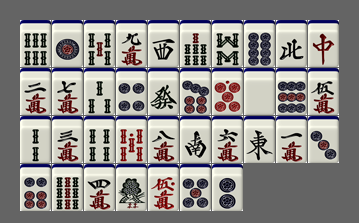0m: (148, 164, 179, 211)
0p: (212, 68, 243, 115)
0s: (116, 116, 147, 163)
1m: (276, 116, 307, 163)
1p: (52, 20, 83, 67)
1s: (116, 164, 147, 211)
1z: (244, 116, 275, 163)
2m: (20, 68, 51, 115)
2p: (212, 164, 243, 211)
2s: (20, 116, 51, 163)
2z: (180, 116, 211, 163)
3m: (52, 116, 83, 163)
3p: (308, 116, 339, 163)
3s: (84, 68, 115, 115)
3z: (148, 20, 179, 67)
4m: (84, 164, 115, 211)
4p: (116, 68, 147, 115)
4s: (84, 116, 115, 163)
4z: (276, 20, 307, 67)
5m: (308, 68, 339, 115)
5p: (180, 164, 211, 211)
5s: (84, 20, 115, 67)
5z: (244, 68, 275, 115)
6m: (212, 116, 243, 163)
6p: (20, 164, 51, 211)
6s: (20, 20, 51, 67)
6z: (148, 68, 179, 115)
7m: (52, 68, 83, 115)
7p: (180, 68, 211, 115)
7s: (180, 20, 211, 67)
7z: (308, 20, 339, 67)
8m: (148, 116, 179, 163)
8p: (244, 20, 275, 67)
8s: (212, 20, 243, 67)
9m: (116, 20, 147, 67)
9p: (276, 68, 307, 115)
9s: (52, 164, 83, 211)
